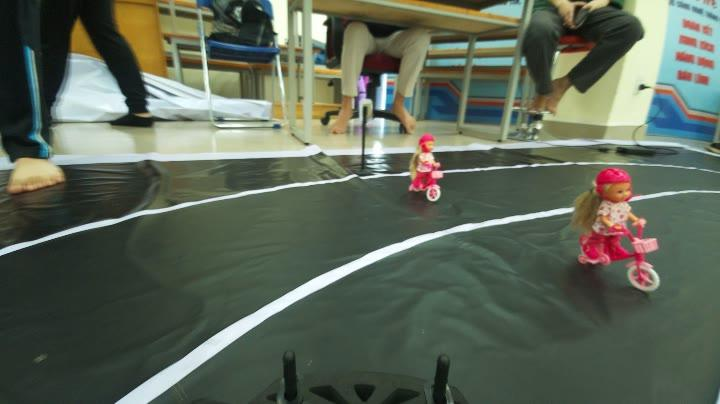pedestrian: (566, 156, 670, 308), (397, 124, 458, 204)
